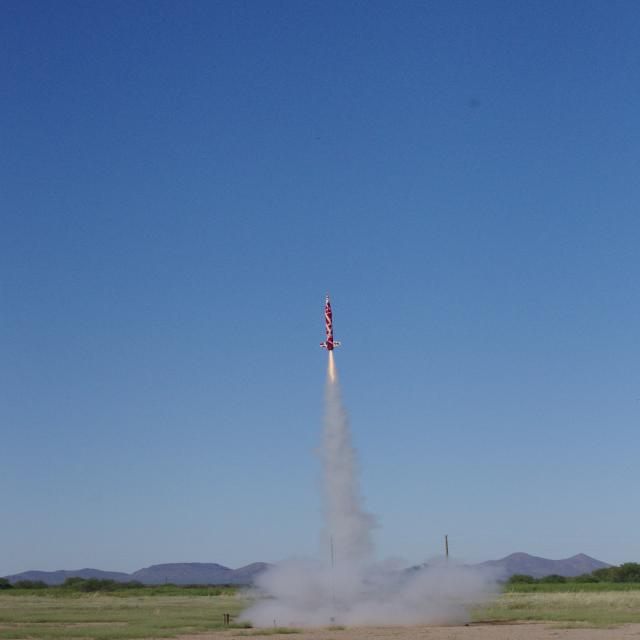Rocket: (318, 292, 342, 352)
